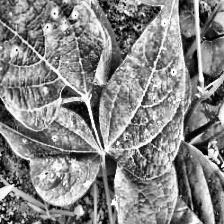Bean Rust: (98, 5, 199, 174), (0, 0, 109, 128), (0, 90, 101, 206)
